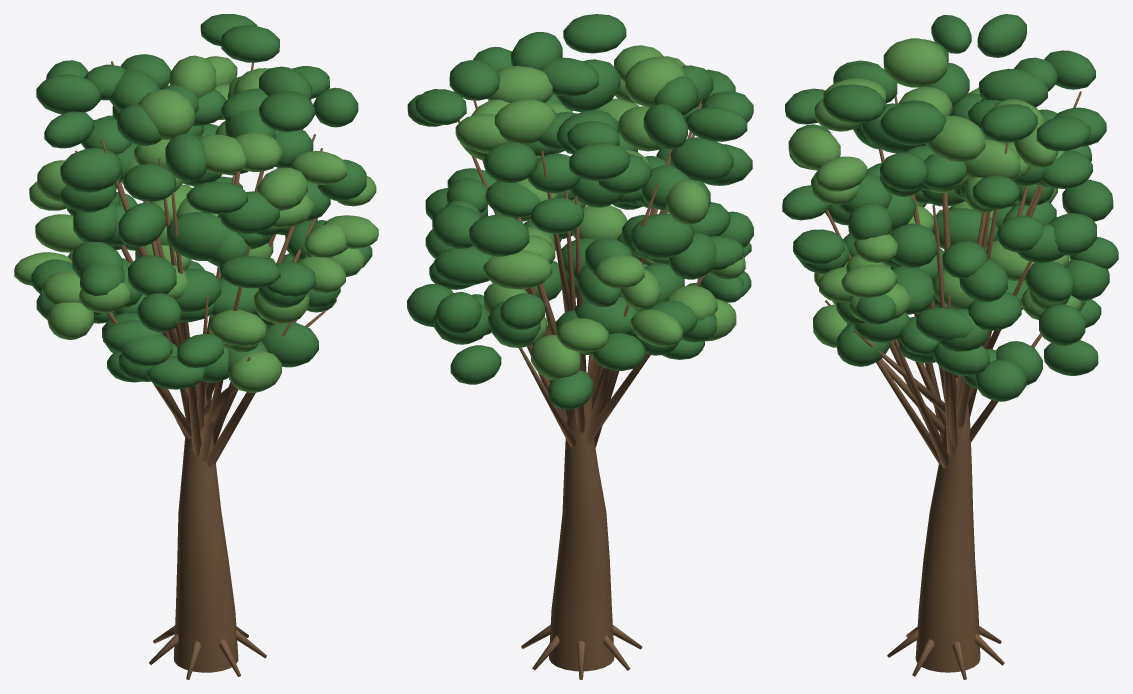
Rendered from rorng_city_neoq_tree_columnar.glb.
3 views of the same model, side by side, from view 1: azimuth 30°, elevation 25°; view 2: azimuth 150°, elevation 25°; view 3: azimuth 270°, elevation 25° (orthographic).
Visible parts, largest first — view 1: rorng_city_neoq_tree_columnar_lod0; view 2: rorng_city_neoq_tree_columnar_lod0; view 3: rorng_city_neoq_tree_columnar_lod0.
Part boxes in pixels (x1,y1,x2,y2): rorng_city_neoq_tree_columnar_lod0: (14,14,378,679); rorng_city_neoq_tree_columnar_lod0: (407,14,753,679); rorng_city_neoq_tree_columnar_lod0: (782,14,1118,679).
Size of what is drawn, in the model's own units: 4.66 by 8.62 by 4.46.
